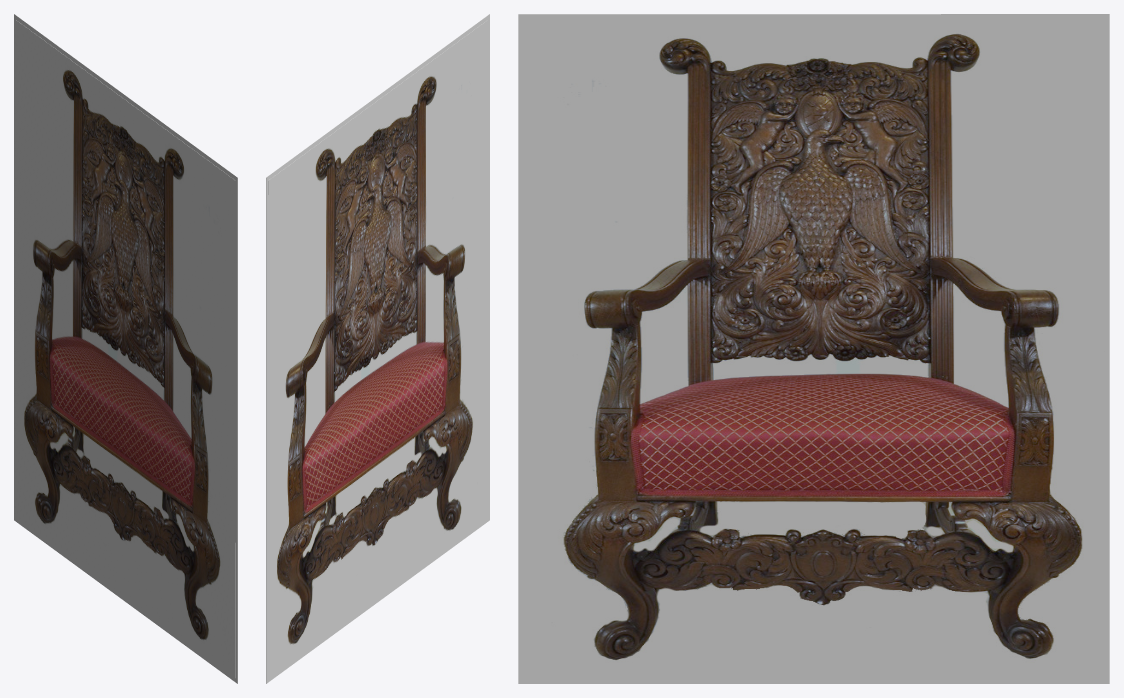
The model's file is 6 - Fotel.glb.
3 renders of one model, left to right at view 1: azimuth 30°, elevation 25°; view 2: azimuth 150°, elevation 25°; view 3: azimuth 270°, elevation 25°, orthographic. The views are drawn at different scales.
Visible parts, largest first — view 1: Plane; view 2: Plane; view 3: Plane.
Boxes of the visible parts, <box> form: Plane: <box>14,14,237,683</box>; Plane: <box>266,14,489,683</box>; Plane: <box>518,14,1109,683</box>.
Bounding box in the file's own units: 0.0246 × 20 × 16.
Materials: 1 (1 with a texture image).
